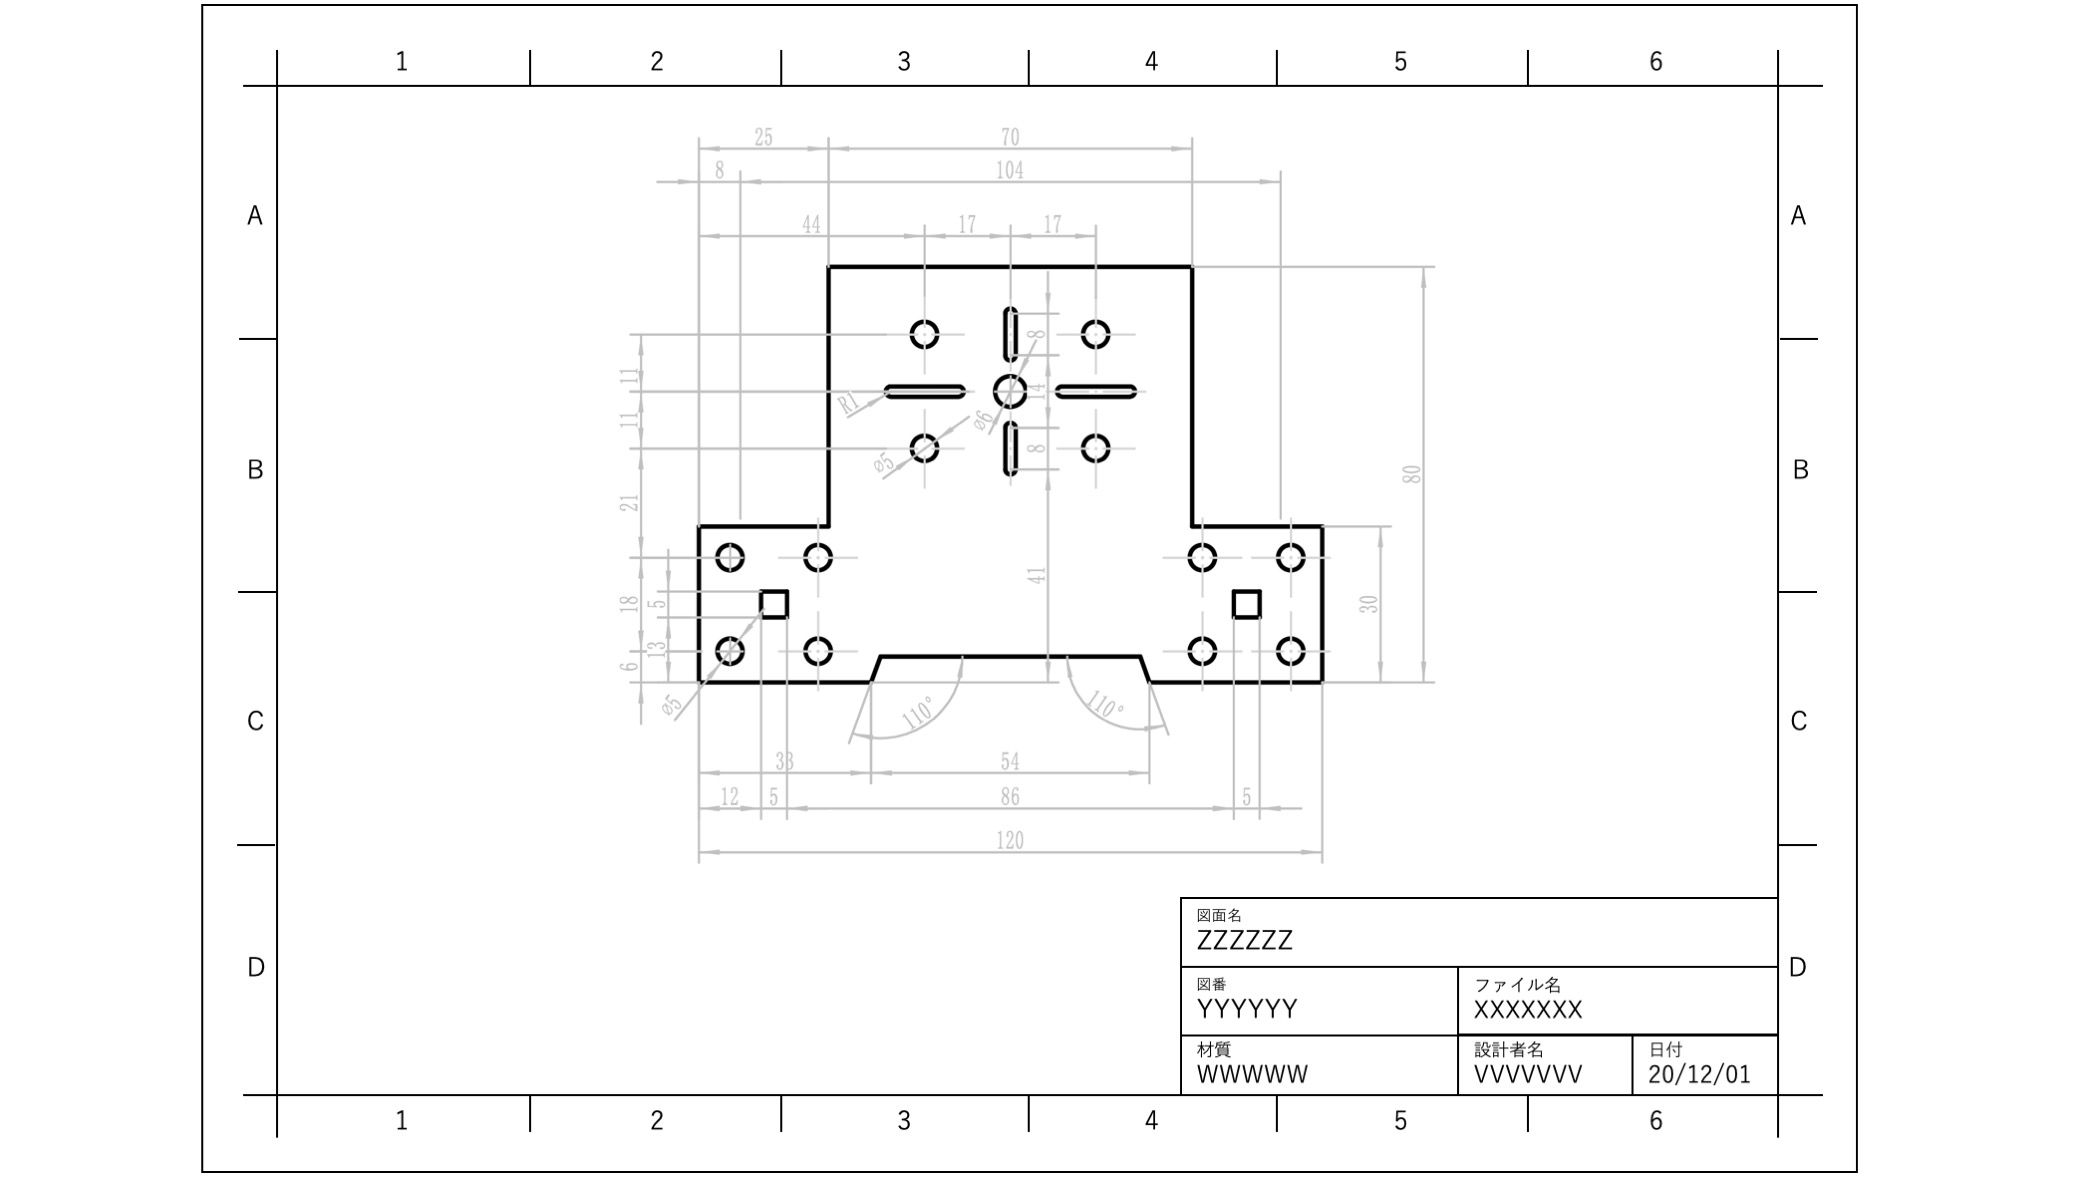circle: (1178, 629, 1225, 669), (1075, 425, 1118, 467), (904, 425, 945, 466), (1271, 629, 1310, 671), (705, 630, 754, 663), (1181, 534, 1222, 572), (798, 630, 838, 668), (795, 539, 837, 575), (712, 534, 749, 574), (1077, 311, 1115, 349), (1274, 536, 1310, 575), (906, 311, 942, 349), (991, 371, 1025, 404)
rectangle: (750, 584, 795, 620), (1227, 583, 1268, 622)
round_rectangle: (1053, 366, 1142, 404), (877, 372, 974, 404), (997, 291, 1023, 373), (997, 410, 1024, 482)
